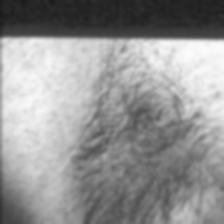Unclassified: (0, 38, 87, 208), (124, 43, 208, 217)
